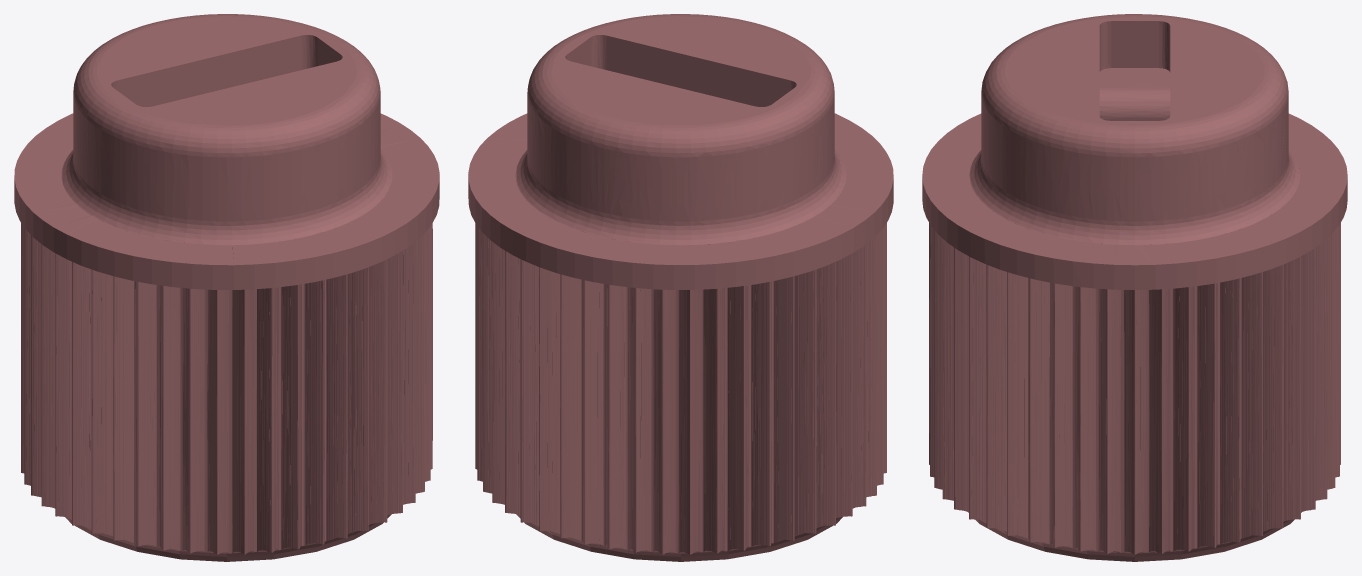
The model's file is smallknob_rose.glb.
3 renders of one model, left to right at view 1: azimuth 30°, elevation 25°; view 2: azimuth 150°, elevation 25°; view 3: azimuth 270°, elevation 25°, orthographic.
Bounding box in the file's own units: 0.018 × 0.0194 × 0.018.
